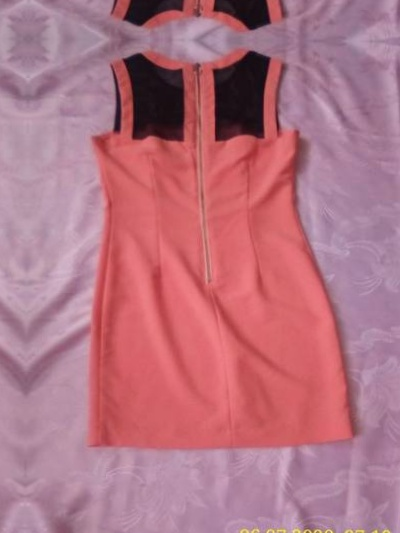Dress: (87, 45, 370, 465), (90, 0, 373, 34)
